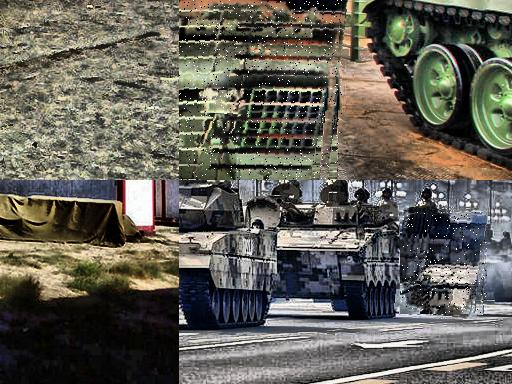tanks: (180, 1, 343, 181), (363, 1, 512, 170), (276, 182, 406, 320), (180, 181, 278, 330), (402, 212, 488, 315)
